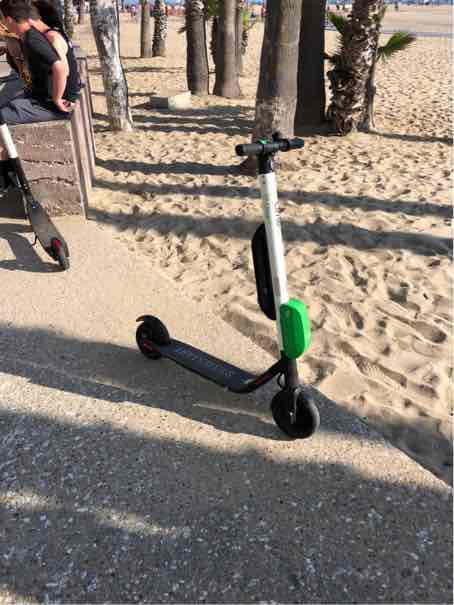scooter: (124, 114, 338, 452)
